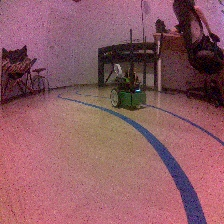rob: (109, 62, 147, 109)
